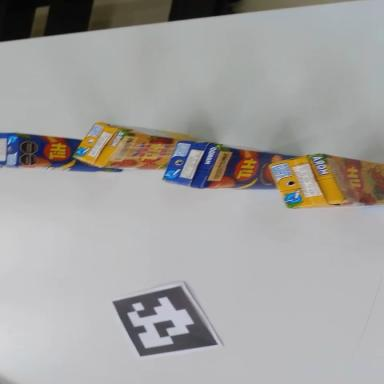HIT-MANGO: (163, 135, 290, 202), (0, 131, 125, 181)
HIT-MORA: (73, 119, 192, 179), (270, 152, 384, 209)
cara_F: (201, 145, 299, 200), (16, 134, 124, 176), (102, 130, 180, 177), (318, 155, 384, 207)
